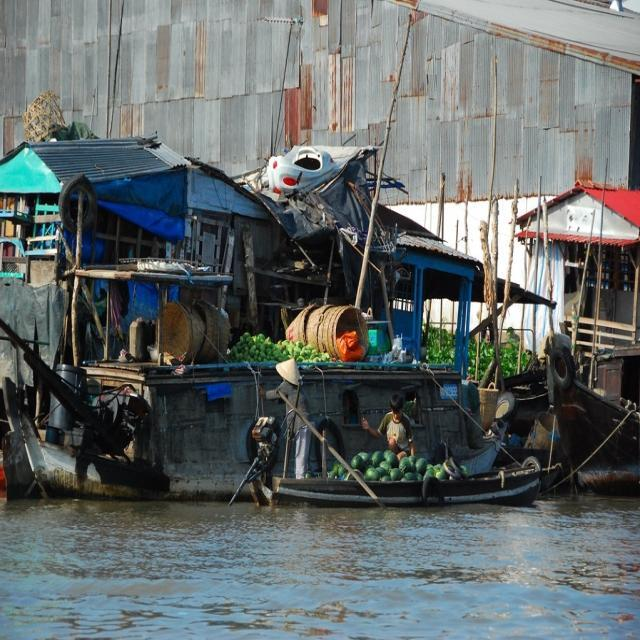boat: (31, 351, 560, 508), (265, 455, 552, 519)
